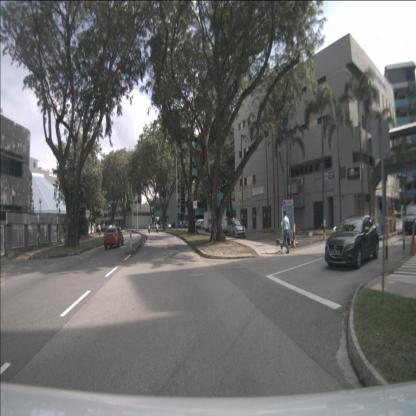human-pedestrian-adult: (279, 210, 290, 254), (98, 223, 101, 238)
movable_object-trafficcone: (408, 236, 416, 257)
vehicle-car: (324, 214, 379, 269), (103, 226, 124, 249), (402, 204, 416, 235), (226, 220, 246, 238), (200, 220, 211, 230), (195, 219, 206, 229), (164, 222, 172, 230), (176, 221, 184, 228), (171, 222, 178, 229)
vehicle-truck: (212, 210, 228, 236), (204, 212, 218, 233)
